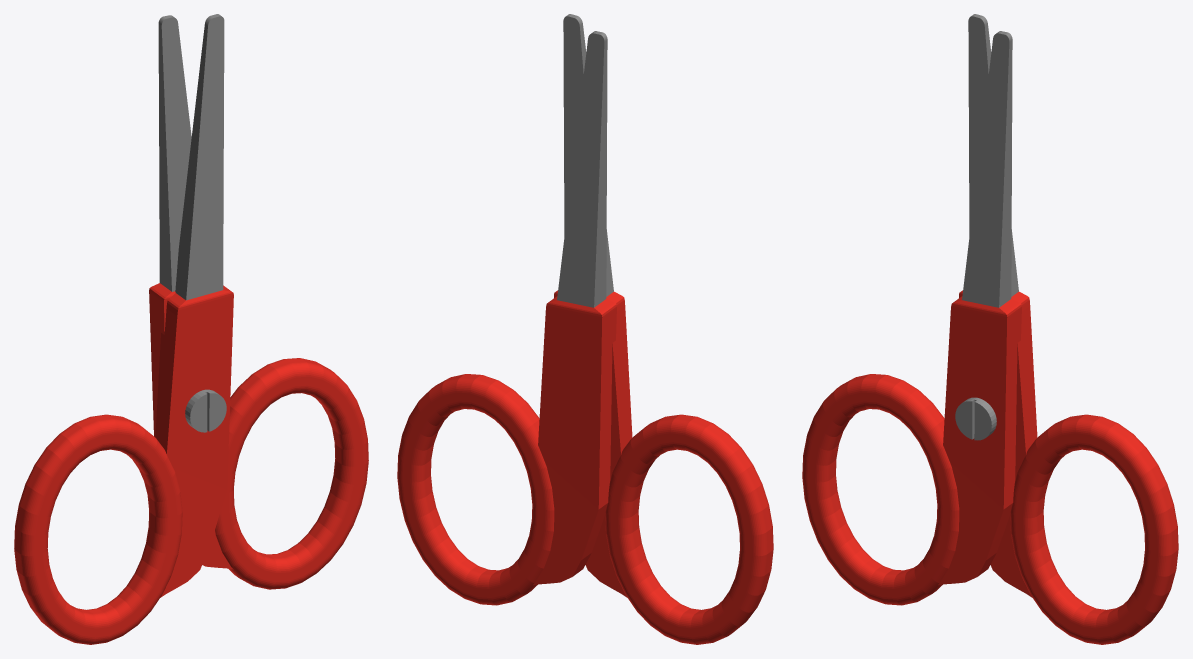
File: Scissors.glb
3 views of the same model, side by side, from view 1: azimuth 30°, elevation 25°; view 2: azimuth 150°, elevation 25°; view 3: azimuth 330°, elevation 25° (orthographic).
Parts seen in each view (by area): view 1: Cylinder.001, Cylinder.003, Cylinder; view 2: Cylinder.003, Cylinder.001; view 3: Cylinder.001, Cylinder.003, Cylinder.
Boxes of the visible parts, bbox=[...] form: Cylinder.001: bbox=[14, 14, 233, 644]; Cylinder.003: bbox=[149, 15, 368, 589]; Cylinder: bbox=[185, 389, 226, 432]; Cylinder.003: bbox=[397, 31, 616, 605]; Cylinder.001: bbox=[554, 14, 773, 644]; Cylinder.001: bbox=[802, 31, 1021, 605]; Cylinder.003: bbox=[959, 14, 1178, 644]; Cylinder: bbox=[955, 397, 996, 440].
Size of the model in its own units: 5.34 by 8.51 by 0.7771.
